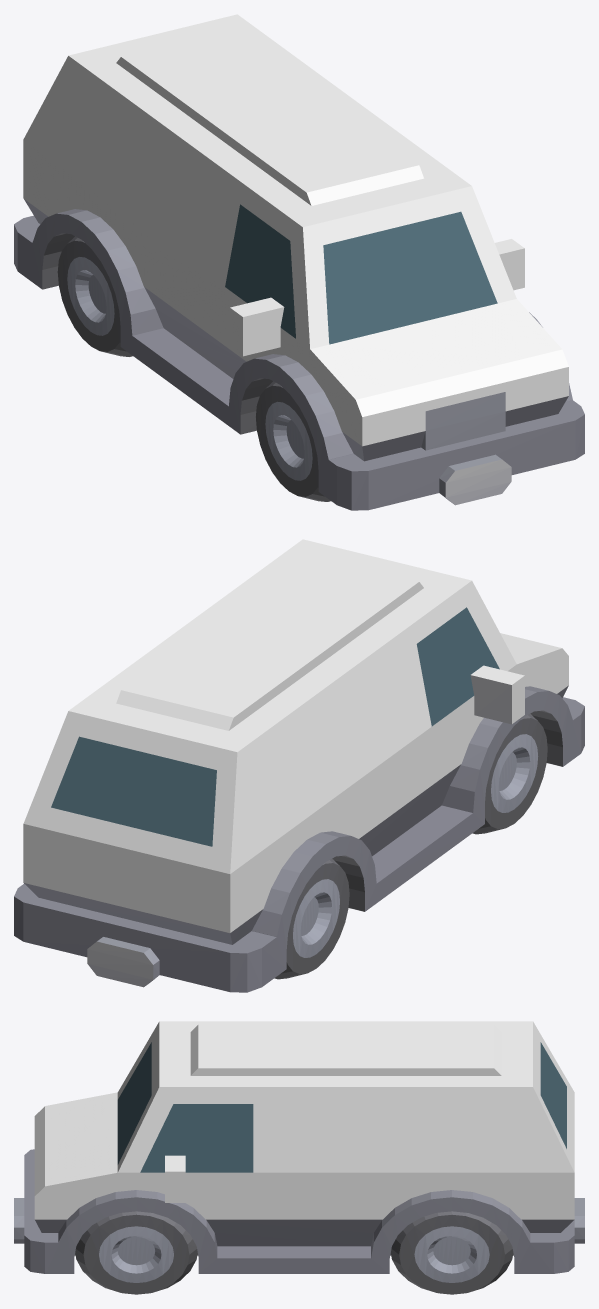
File: van.glb
The picture shows the model from 3 angles, top to bottom: view 1: azimuth 30°, elevation 25°; view 2: azimuth 150°, elevation 25°; view 3: azimuth 270°, elevation 25°; orthographic projection. The views are drawn at different scales.
Visible parts, largest first — view 1: body, trim, head; view 2: body, trim, tail; view 3: body, trim, head.
Part boxes in pixels (left/top/right/bottom): body: left=23, top=14, right=568, bottom=446; trim: left=14, top=199, right=584, bottom=510; head: left=349, top=349, right=568, bottom=426; body: left=23, top=539, right=568, bottom=932; trim: left=14, top=607, right=584, bottom=992; tail: left=23, top=843, right=230, bottom=913; body: left=34, top=1021, right=574, bottom=1219; trim: left=14, top=1042, right=584, bottom=1294; head: left=34, top=1106, right=55, bottom=1203.
Size of the model in its own units: 2.43 by 2.19 by 5.35.
